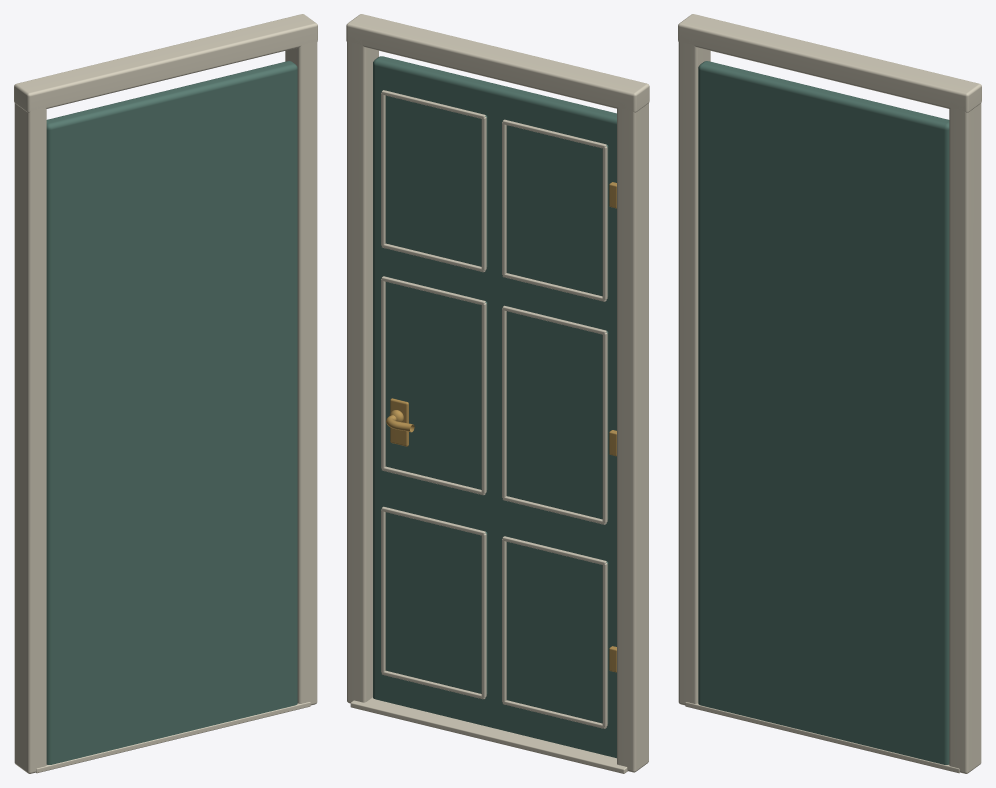
File: panel_door.glb
The picture shows the model from 3 angles, left to right: view 1: azimuth 30°, elevation 25°; view 2: azimuth 150°, elevation 25°; view 3: azimuth 330°, elevation 25°; orthographic projection.
Visible parts, largest first — view 1: Solid six panel wooden door, Door jamb moulding, Door jamb moulding.001, Door architrave top, Threshold wood strip; view 2: Solid six panel wooden door, Door jamb moulding, Inset panel field.002, Inset panel field.003, Door jamb moulding.001, Inset panel field, Inset panel field.001, Inset panel field.004, Inset panel field.005, Door architrave top, Threshold wood strip, Raised panel side bead.004 (+24 smaller); view 3: Solid six panel wooden door, Door jamb moulding.001, Door jamb moulding, Door architrave top, Threshold wood strip.
Boxes of the visible parts, x1=… form: Solid six panel wooden door: x1=46, y1=61, x2=297, y2=764; Door jamb moulding: x1=14, y1=100, x2=46, y2=773; Door jamb moulding.001: x1=285, y1=34, x2=317, y2=705; Door architrave top: x1=14, y1=14, x2=317, y2=112; Threshold wood strip: x1=36, y1=702, x2=310, y2=773; Solid six panel wooden door: x1=373, y1=56, x2=616, y2=758; Door jamb moulding: x1=617, y1=100, x2=648, y2=772; Inset panel field.002: x1=506, y1=311, x2=608, y2=519; Inset panel field.003: x1=385, y1=282, x2=487, y2=490; Door jamb moulding.001: x1=347, y1=35, x2=378, y2=703; Inset panel field: x1=506, y1=542, x2=608, y2=723; Inset panel field.001: x1=385, y1=512, x2=487, y2=694; Inset panel field.004: x1=506, y1=125, x2=608, y2=296; Inset panel field.005: x1=385, y1=95, x2=487, y2=267; Door architrave top: x1=346, y1=14, x2=649, y2=112; Threshold wood strip: x1=350, y1=697, x2=627, y2=773; Raised panel side bead.004: x1=602, y1=332, x2=607, y2=523; Solid six panel wooden door: x1=698, y1=61, x2=949, y2=764; Door jamb moulding.001: x1=949, y1=100, x2=981, y2=773; Door jamb moulding: x1=678, y1=34, x2=710, y2=705; Door architrave top: x1=678, y1=14, x2=981, y2=112; Threshold wood strip: x1=685, y1=702, x2=959, y2=773.
Bounding box in the file's own units: 2.88 × 6.44 × 0.4785.
